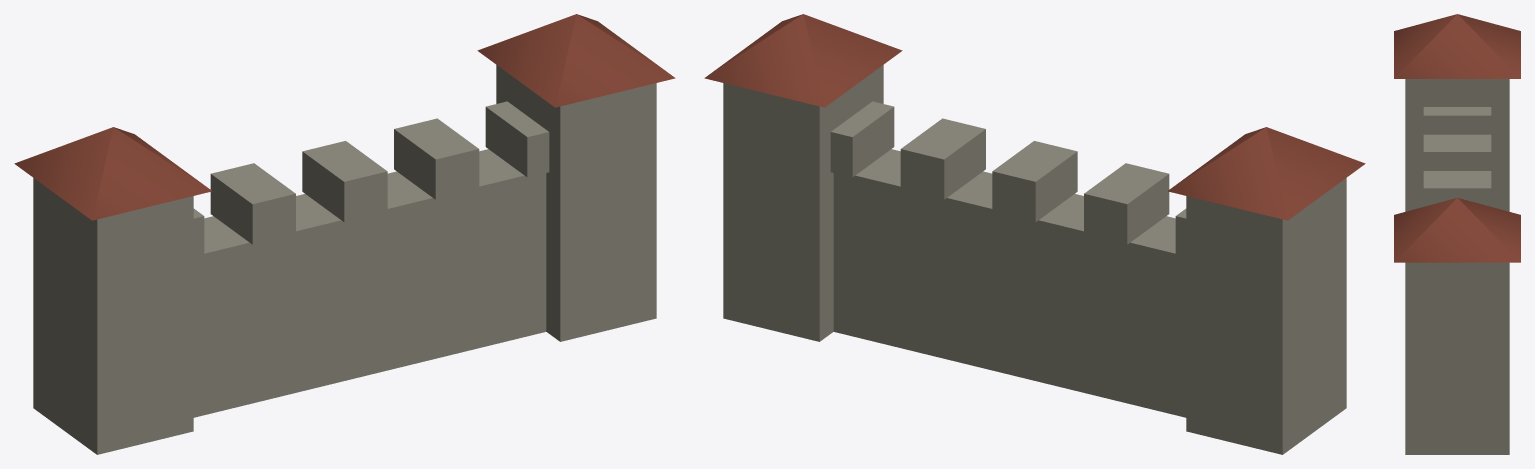
File: custom-cb-walls.glb
The picture shows the model from 3 angles, left to right: view 1: azimuth 30°, elevation 25°; view 2: azimuth 150°, elevation 25°; view 3: azimuth 270°, elevation 25°; orthographic projection. The views are drawn at different scales.
Parts seen in each view (by area): view 1: custom-cb-walls; view 2: custom-cb-walls; view 3: custom-cb-walls.
Boxes of the visible parts, x1,y1,x2,y2 form: custom-cb-walls: (14,14,675,454); custom-cb-walls: (704,14,1365,454); custom-cb-walls: (1394,14,1520,454).
Size of the model in its own units: 1 by 0.4793 by 0.2314.
